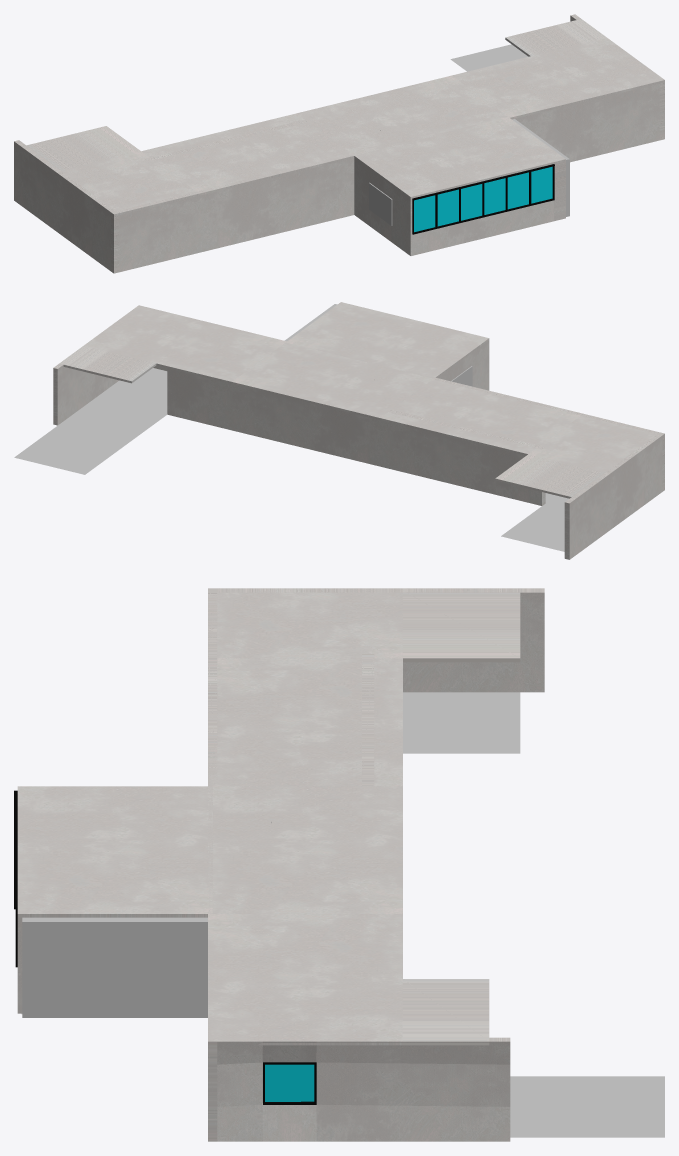
File: Office.fbx
The picture shows the model from 3 angles, top to bottom: view 1: azimuth 30°, elevation 25°; view 2: azimuth 150°, elevation 25°; view 3: azimuth 270°, elevation 25°; orthographic projection. The views are drawn at different scales.
Visible parts, largest first — view 1: Wall.013, Wall.008, Wall.003, Wall.014, Wall.015, Wall.016, Wall.007, Wall.012, Wall.011, Wall.002, Wall.001, Floor.004 (+12 smaller); view 2: Wall.013, Wall.003, Wall.014, Wall.015, Wall.005, Wall.016, Wall.010, Wall.012, Floor.004, Wall.006, Wall.009, Floor.005 (+4 smaller); view 3: Wall.013, Wall.009, Wall.003, Wall.014, Wall.015, Wall.016, BackWall, Floor.004, Wall.012, Floor.005, Glass.009, Wall.010 (+2 smaller).
Boxes of the visible parts, x1,y1,x2,y2 form: Wall.013: [452, 19, 664, 119]; Wall.008: [183, 155, 354, 255]; Wall.003: [353, 117, 565, 198]; Wall.014: [297, 75, 507, 155]; Wall.015: [141, 113, 354, 195]; Wall.016: [27, 126, 198, 215]; Wall.007: [515, 82, 664, 162]; Wall.012: [14, 140, 115, 271]; Wall.011: [111, 195, 185, 273]; Wall.002: [412, 200, 553, 255]; Wall.001: [354, 158, 412, 255]; Floor.004: [450, 44, 528, 71]; Wall.013: [59, 305, 286, 383]; Wall.003: [286, 302, 489, 378]; Wall.014: [232, 342, 433, 419]; Wall.015: [380, 379, 580, 455]; Wall.005: [239, 386, 402, 470]; Wall.016: [495, 416, 656, 498]; Wall.010: [399, 412, 545, 505]; Wall.012: [564, 434, 662, 559]; Floor.004: [14, 395, 167, 474]; Wall.006: [167, 368, 238, 431]; Wall.009: [53, 309, 133, 425]; Floor.005: [501, 495, 568, 551]; Wall.013: [208, 914, 489, 1045]; Wall.009: [217, 1037, 510, 1141]; Wall.003: [17, 786, 212, 917]; Wall.014: [208, 786, 402, 913]; Wall.015: [208, 658, 402, 786]; Wall.016: [208, 590, 520, 662]; BackWall: [22, 917, 207, 1017]; Floor.004: [510, 1076, 664, 1137]; Wall.012: [217, 588, 544, 692]; Floor.005: [403, 692, 520, 753]; Glass.009: [265, 1064, 314, 1101]; Wall.010: [362, 653, 374, 776].
Bounding box in the file's own units: 3020 × 321 × 1833.
